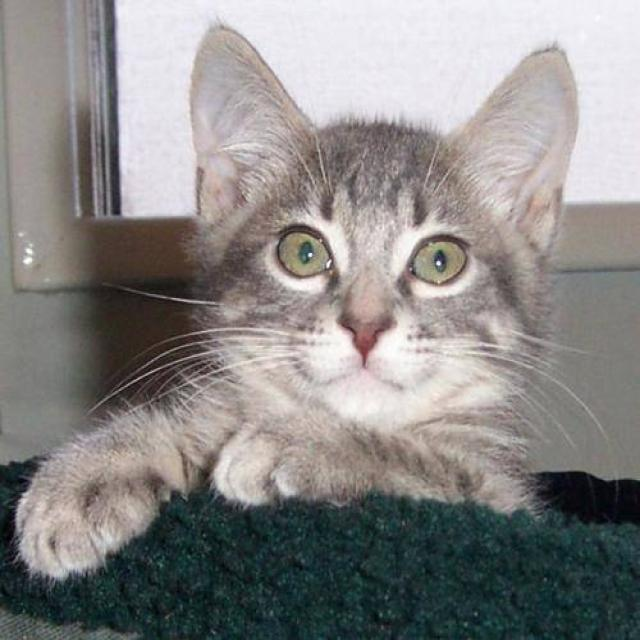cat: (12, 18, 610, 584)
